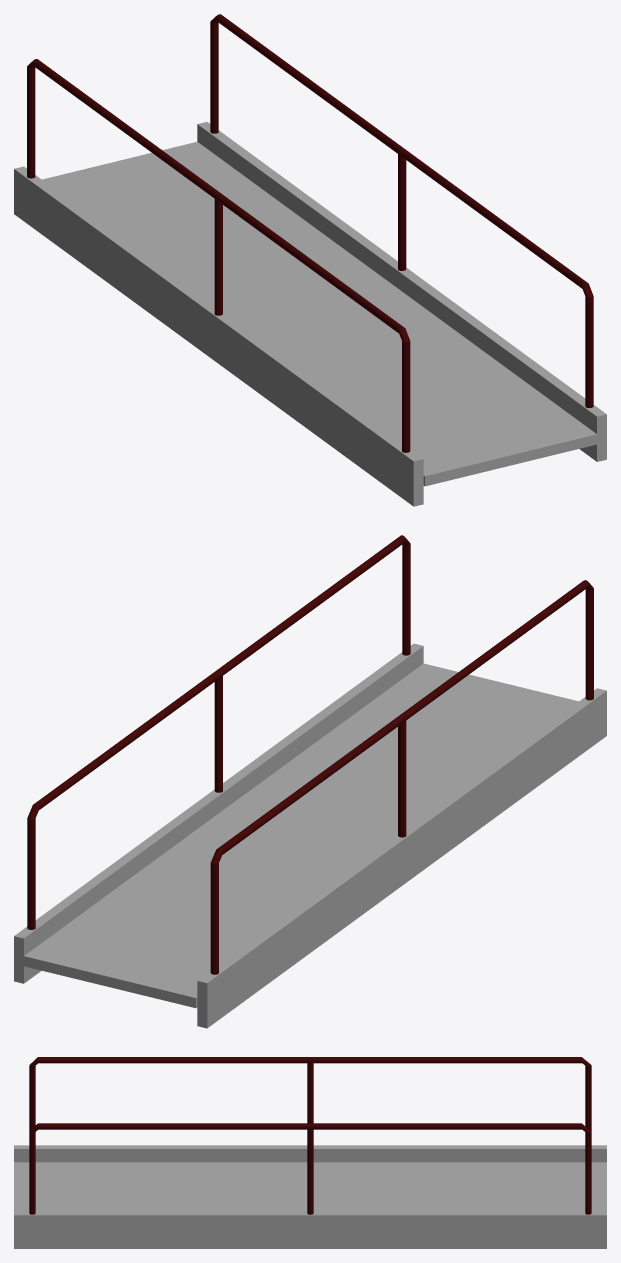
Rendered from Bridge.fbx.
3 renders of one model, top to bottom at view 1: azimuth 30°, elevation 25°; view 2: azimuth 150°, elevation 25°; view 3: azimuth 270°, elevation 25°, orthographic. The views are drawn at different scales.
Visible parts, largest first — view 1: pCube21, pCube22, pCylinder18; view 2: pCube21, pCube22, pCylinder18; view 3: pCube22, pCube21, pCylinder18.
Boxes of the visible parts, x1,y1,x2,y2 form: pCube21: [42, 141, 598, 486]; pCube22: [14, 122, 606, 506]; pCylinder18: [27, 14, 593, 452]; pCube21: [22, 663, 578, 1008]; pCube22: [14, 643, 606, 1028]; pCylinder18: [27, 535, 593, 974]; pCube22: [14, 1145, 606, 1248]; pCube21: [14, 1162, 606, 1211]; pCylinder18: [29, 1057, 591, 1214].
Bounding box in the file's own units: 4.46 × 3.67 × 16.
